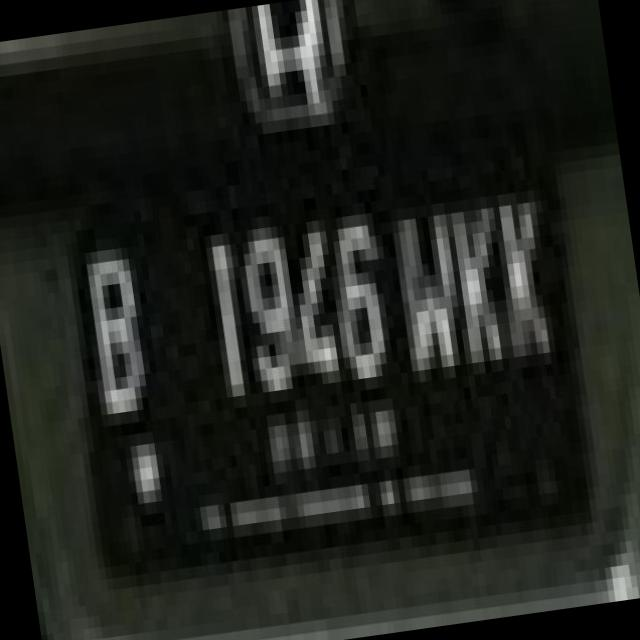LicensePlate: (54, 117, 595, 570)
